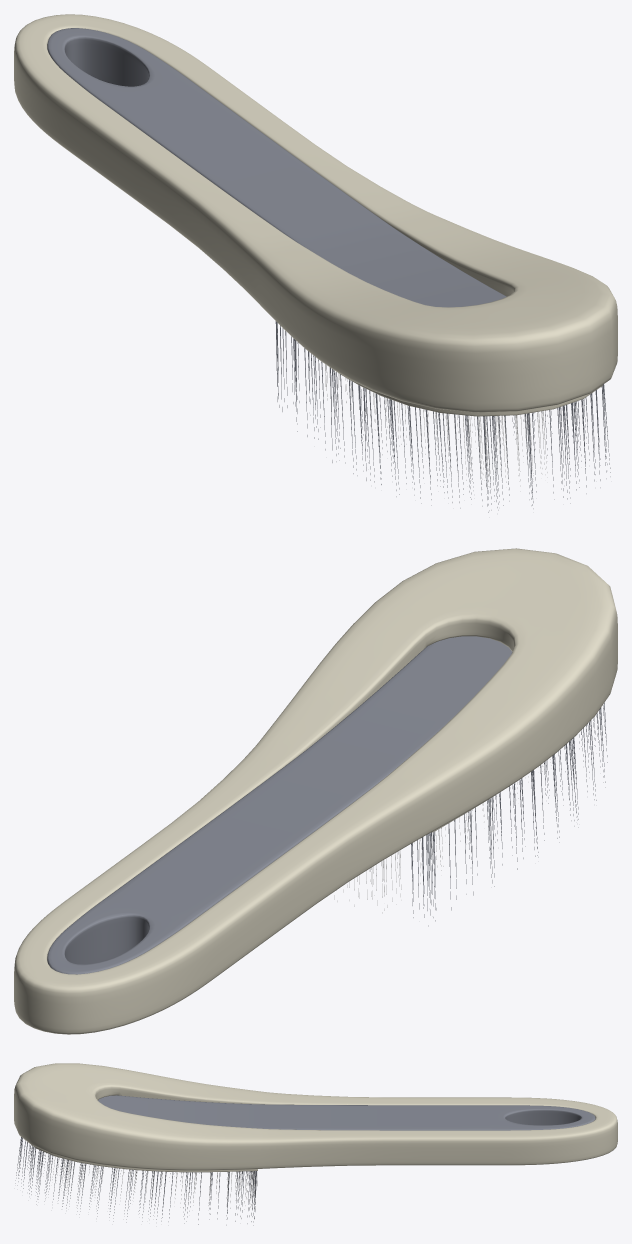
File: MR__DIY_Dual_Cleaning_Brush.glb
3 renders of one model, top to bottom at view 1: azimuth 30°, elevation 25°; view 2: azimuth 150°, elevation 25°; view 3: azimuth 270°, elevation 25°, orthographic. The views are drawn at different scales.
Parts seen in each view (by area): view 1: Big-Brush, Small-Brush, Big-Brush_bristles, Small-Brush_bristles; view 2: Big-Brush, Small-Brush, Big-Brush_bristles, Small-Brush_bristles; view 3: Big-Brush, Small-Brush, Big-Brush_bristles, Small-Brush_bristles.
Part boxes in pixels (box(x1,y1,x2,y2)): Big-Brush: box(14, 14, 617, 416); Small-Brush: box(47, 28, 506, 307); Big-Brush_bristles: box(275, 321, 610, 512); Small-Brush_bristles: box(325, 364, 547, 494); Big-Brush: box(14, 548, 617, 1034); Small-Brush: box(47, 636, 512, 974); Big-Brush_bristles: box(411, 702, 607, 926); Small-Brush_bristles: box(334, 759, 551, 913); Big-Brush: box(14, 1063, 617, 1172); Small-Brush: box(98, 1095, 595, 1130); Big-Brush_bristles: box(15, 1137, 256, 1225); Small-Brush_bristles: box(52, 1157, 257, 1209).
Size of the model in its own units: 0.0491 by 0.0433 by 0.1935.
